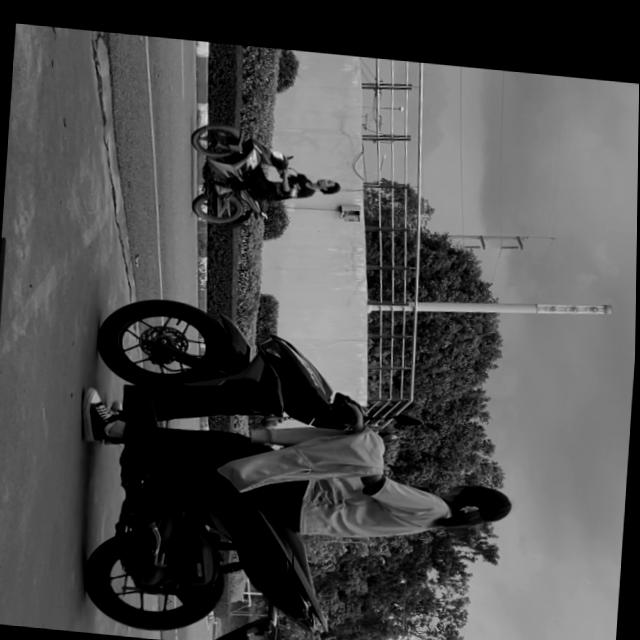seatbelt: (444, 476, 516, 527), (314, 175, 342, 193)
